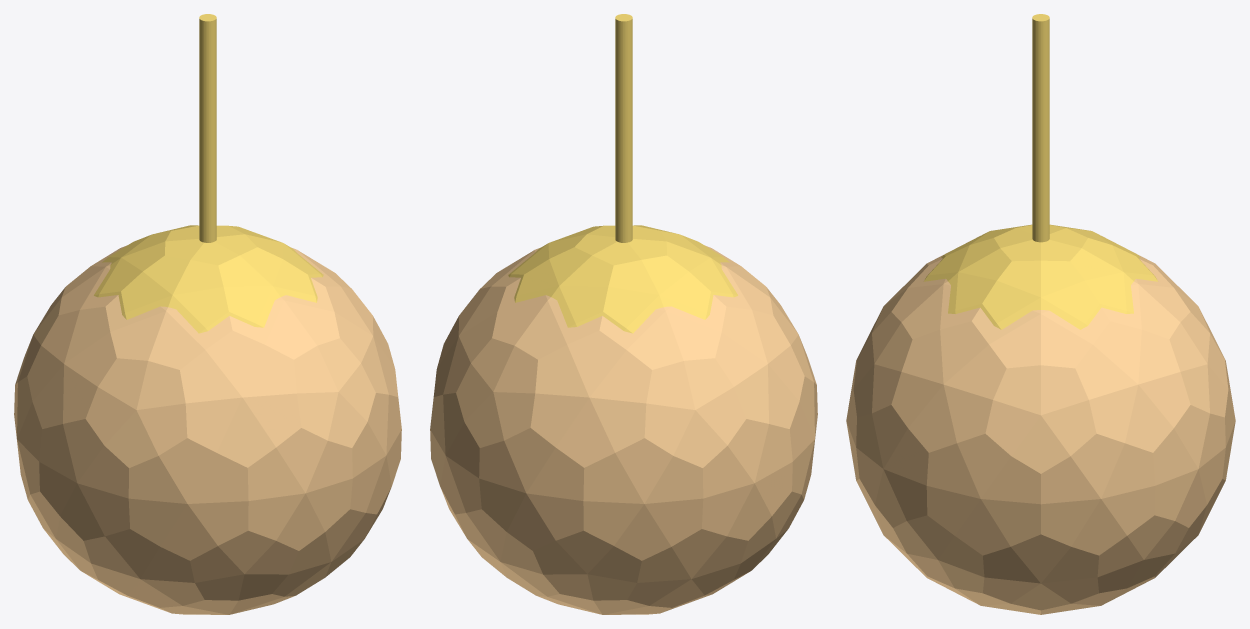
Rendered from chand_2.fbx.
3 views of the same model, side by side, from view 1: azimuth 30°, elevation 25°; view 2: azimuth 150°, elevation 25°; view 3: azimuth 270°, elevation 25° (orthographic).
Parts seen in each view (by area): view 1: vetro, supporto; view 2: vetro, supporto; view 3: vetro, supporto.
Boxes of the visible parts, x1,y1,x2,y2 form: vetro: [14, 245, 401, 614]; supporto: [94, 14, 323, 333]; vetro: [430, 245, 817, 614]; supporto: [508, 14, 737, 333]; vetro: [846, 236, 1235, 614]; supporto: [924, 14, 1157, 329].
Bounding box in the file's own units: 396 × 652 × 396.
